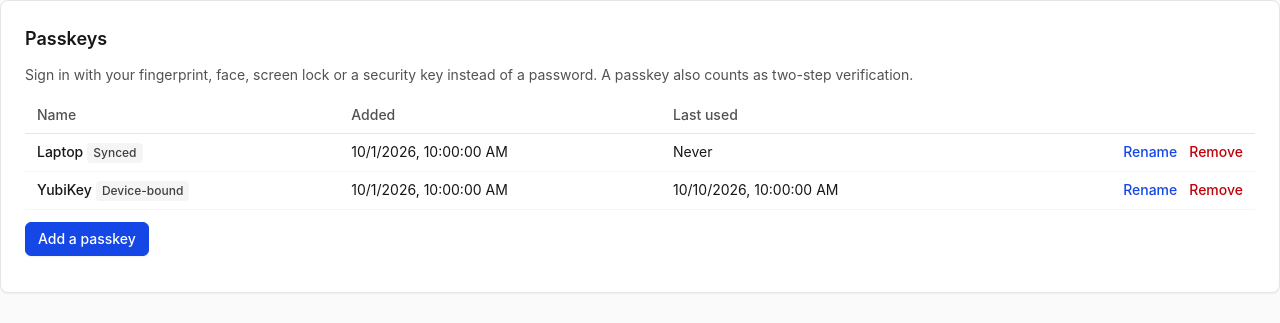
Scenario: PasskeysSection › renames inline
Click the button "Rename" in the row of "Laptop" at coordinates (1150, 152), box [1123,142,1177,162]
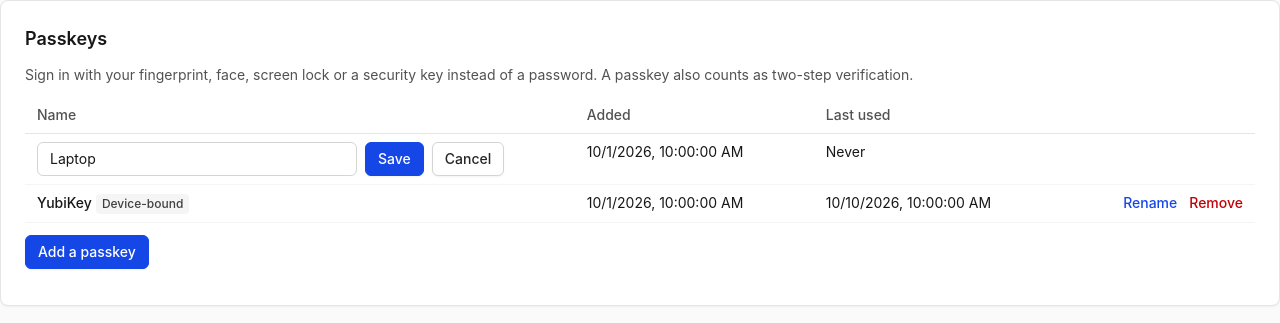
Replace the text in the field with "Work laptop" at coordinates (197, 159), box [37,142,357,176]
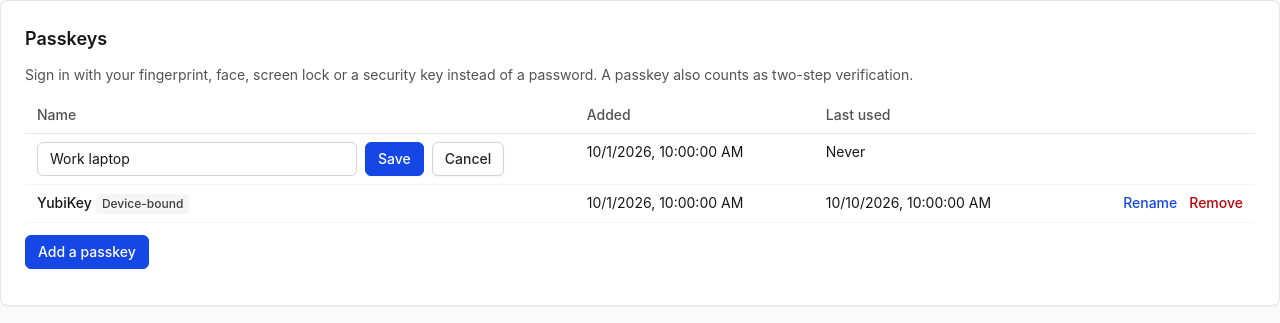
Submit the form, box [37,142,563,176]
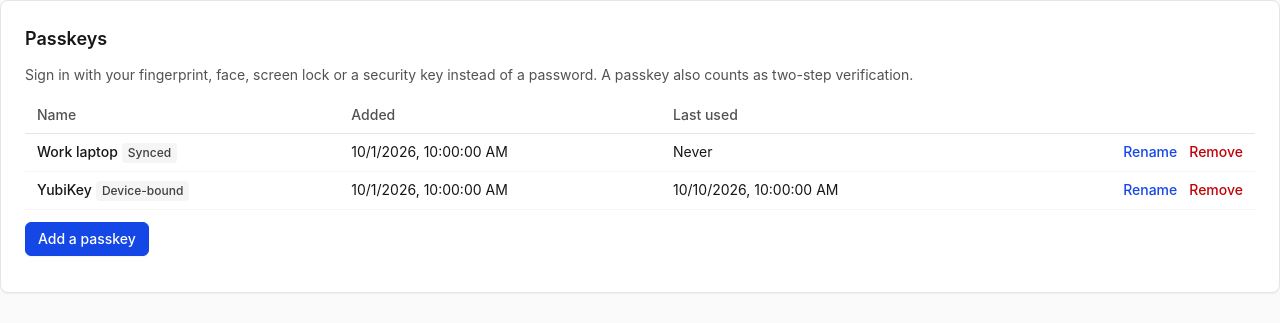
Now the row that starts with "Work laptop" is shown, box [37,143,118,160]
